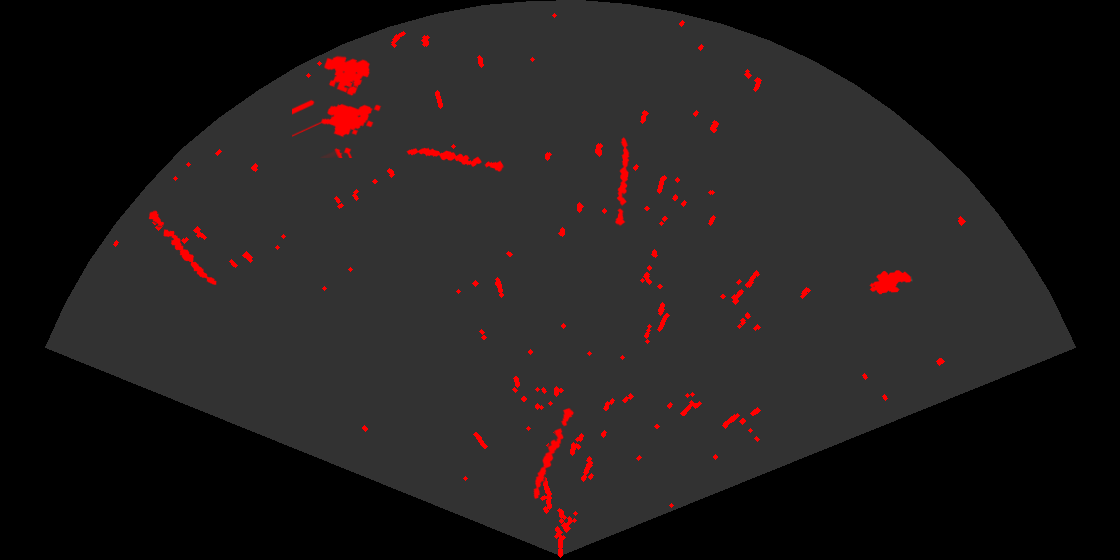AUV: (868, 269, 913, 296)
cage: (292, 54, 383, 158)
chain: (147, 209, 218, 287), (532, 406, 576, 501), (405, 146, 506, 173), (614, 136, 631, 228)
